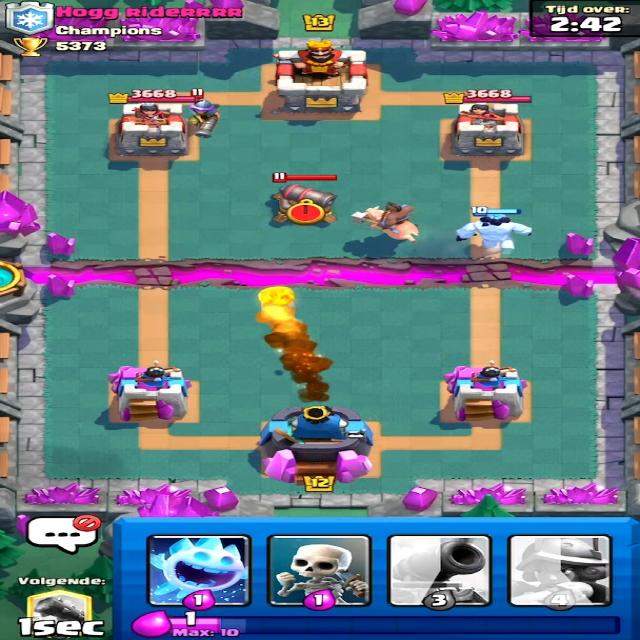Cannon_Card: (396, 534, 487, 605)
Enemy_Musketeer_Troop: (179, 93, 226, 139)
Fireball_Troop: (247, 286, 307, 324)
Hog_Rider_Troop: (355, 200, 432, 244)
Ice_Golem_Troop: (452, 214, 538, 253)
Ice_Spirit_Card: (154, 534, 252, 604)
Musketeer_Card: (509, 532, 608, 605)
Skeleton_Card: (265, 534, 372, 605)
